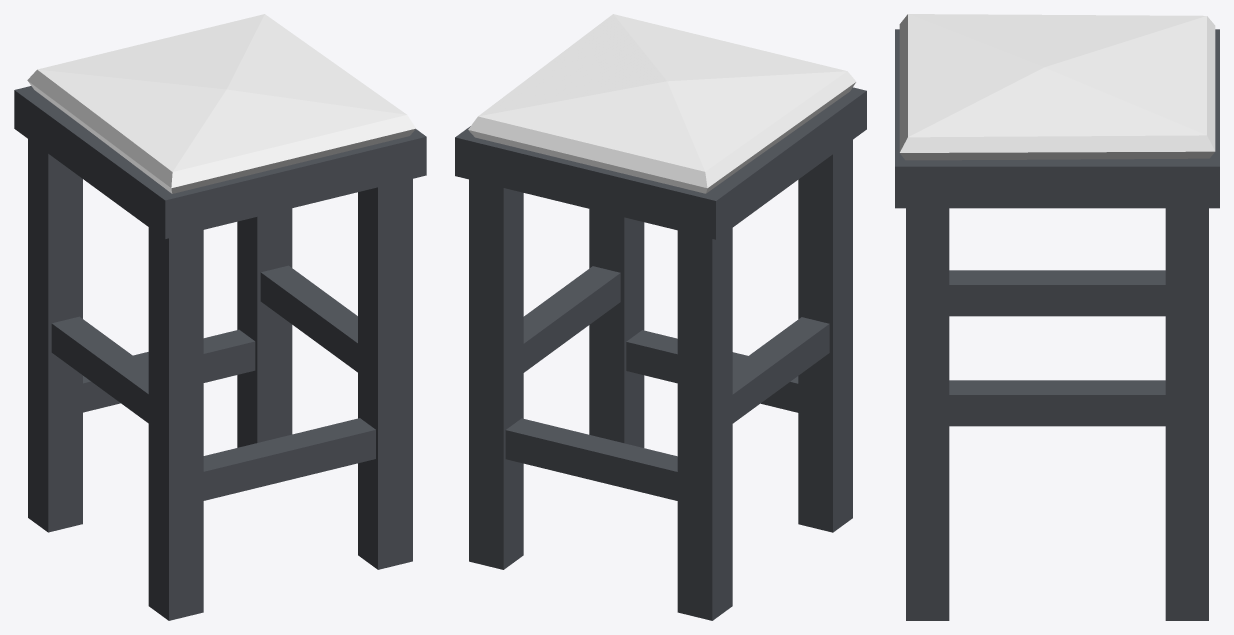
File: Stool_1C.fbx
3 views of the same model, side by side, from view 1: azimuth 30°, elevation 25°; view 2: azimuth 150°, elevation 25°; view 3: azimuth 270°, elevation 25° (orthographic). The views are drawn at different scales.
Parts seen in each view (by area): view 1: polySurface1843; view 2: polySurface1843; view 3: polySurface1843.
Boxes of the visible parts, x1,y1,x2,y2 form: polySurface1843: [14, 14, 426, 620]; polySurface1843: [455, 14, 866, 620]; polySurface1843: [895, 14, 1219, 620].
Size of the model in its own units: 0.6 by 0.9972 by 0.6.
Materials: 1 (1 with a texture image).
